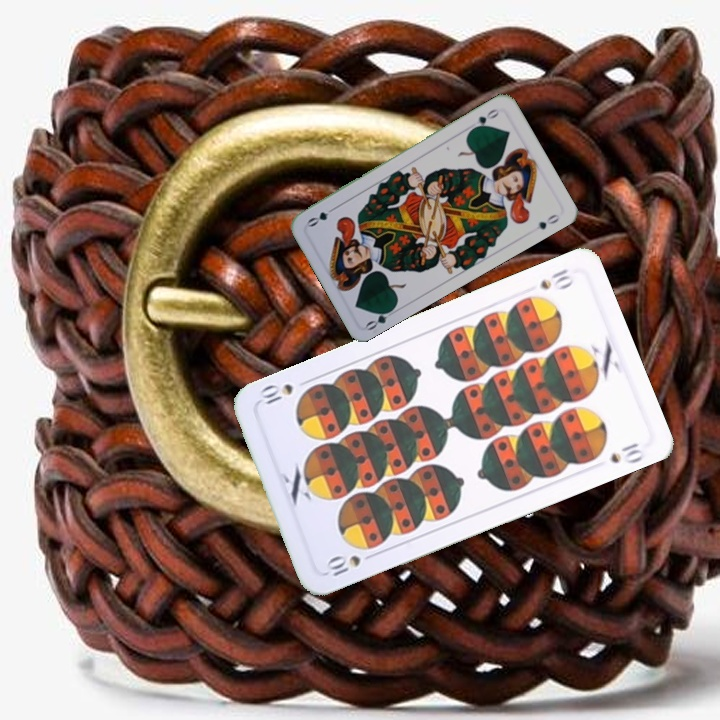GO: (362, 303, 400, 333), (467, 104, 503, 133)
S10: (322, 548, 379, 579), (535, 265, 577, 293)
